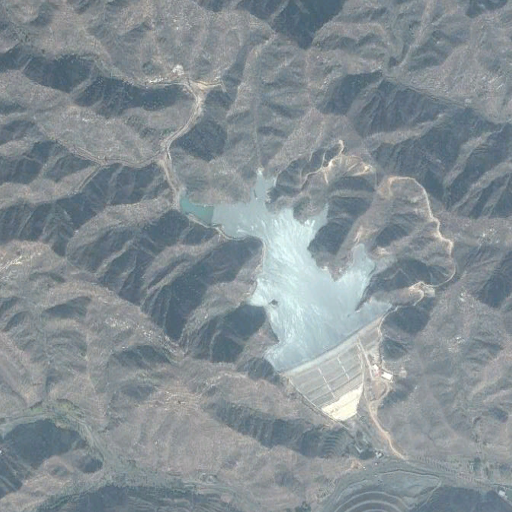tp: (177, 170, 391, 423)
